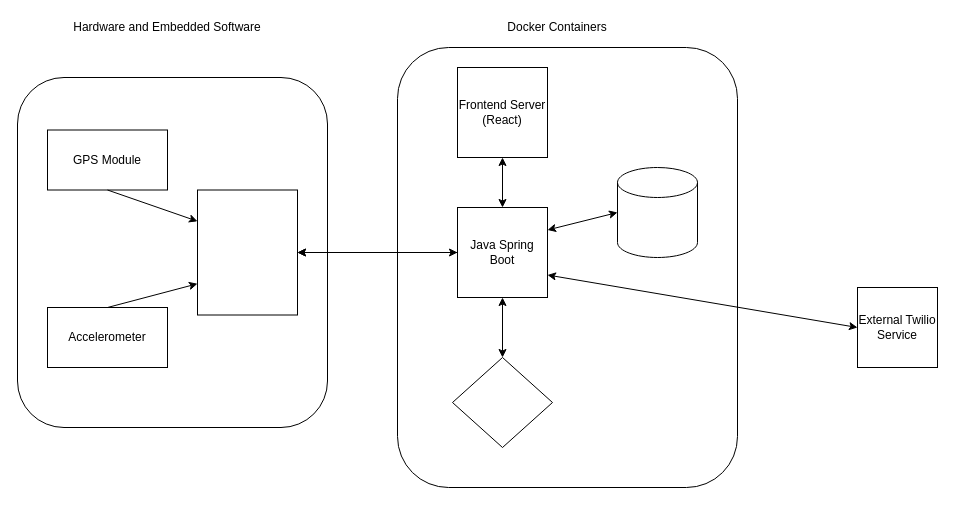
Some shapes in this 955 by 505 pixel diagram are drawn without their labels. Each missing label, with the centre of its shape:
Kafka Queues: the point at 502,402
Raspberry Pi Zero W: the point at 247,252
SQL Database: the point at 657,212
